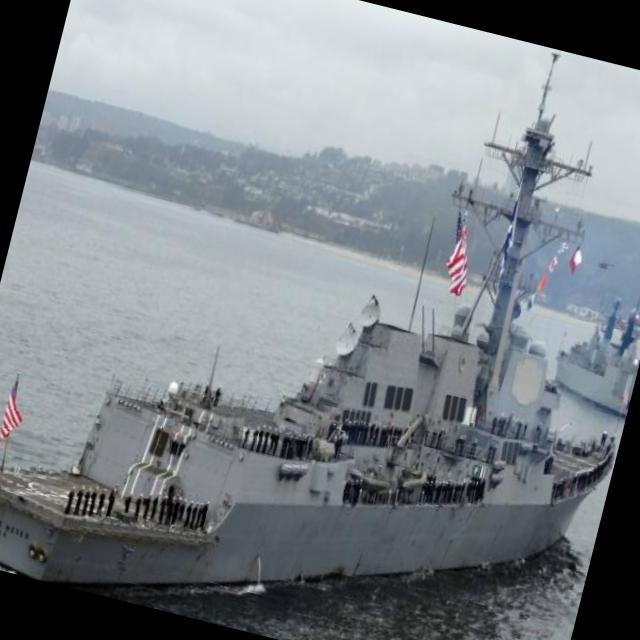Military: (0, 57, 614, 584), (556, 300, 639, 415)
